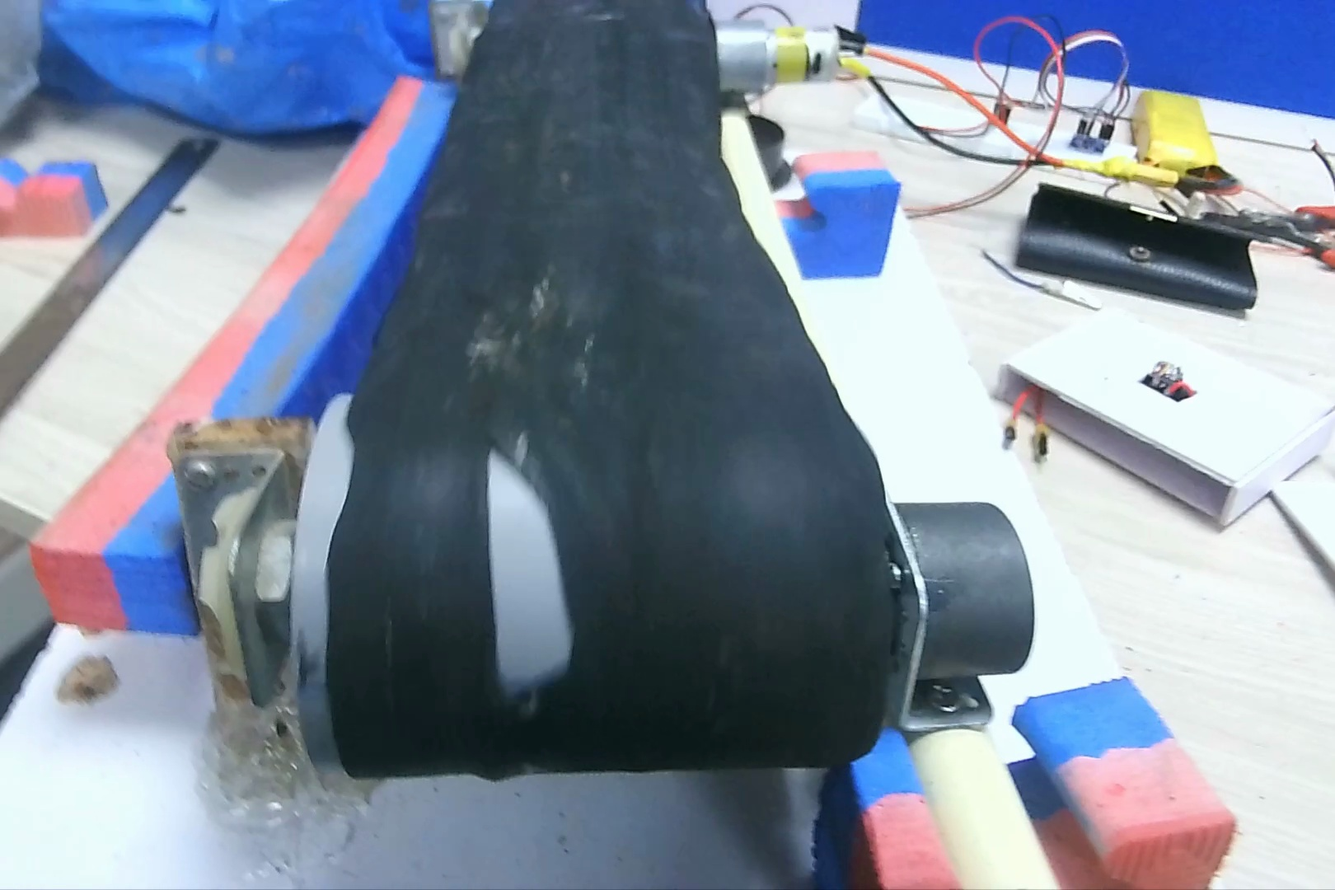hole: (488, 456, 560, 619)
tear: (1066, 32, 1119, 50)
